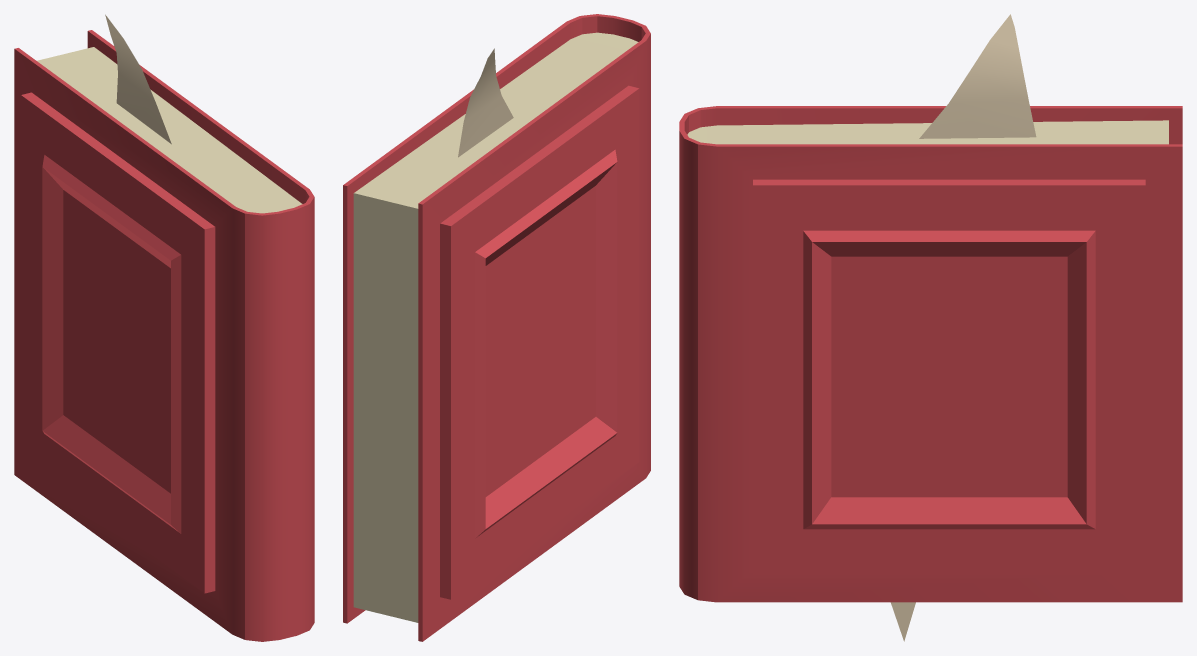
Rendered from Libro3.fbx.
3 views of the same model, side by side, from view 1: azimuth 30°, elevation 25°; view 2: azimuth 150°, elevation 25°; view 3: azimuth 270°, elevation 25° (orthographic). The views are drawn at different scales.
Visible parts, largest first — view 1: Libro3; view 2: Libro3; view 3: Libro3.
Boxes of the visible parts, left/top/right/bottom form: Libro3: left=14, top=14, right=314, bottom=641; Libro3: left=343, top=14, right=650, bottom=641; Libro3: left=679, top=14, right=1182, bottom=641.
Size of the model in its own units: 27.24 by 132 by 100.
